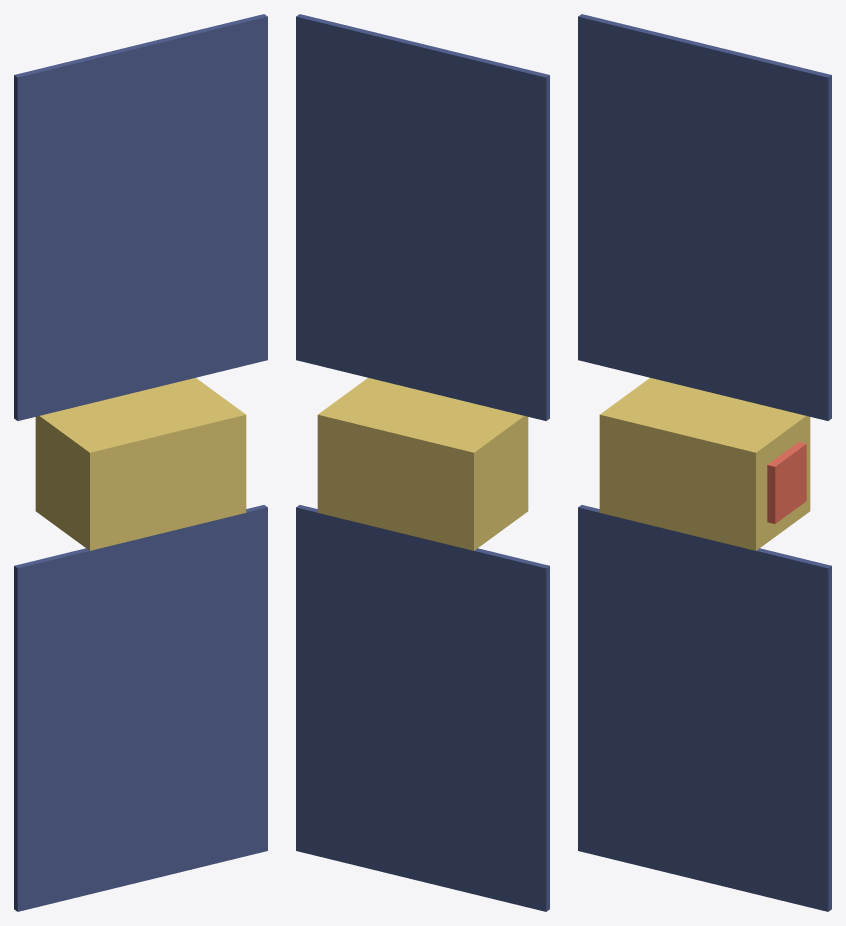
The model's file is aurora_sat_phase4.gltf.
3 renders of one model, left to right at view 1: azimuth 30°, elevation 25°; view 2: azimuth 150°, elevation 25°; view 3: azimuth 330°, elevation 25°, orthographic.
Visible parts, largest first — view 1: AURORA_SAT; view 2: AURORA_SAT; view 3: AURORA_SAT.
Part boxes in pixels (box(x1,y1,x2,y2)): AURORA_SAT: box(14, 14, 267, 911); AURORA_SAT: box(296, 14, 549, 911); AURORA_SAT: box(578, 14, 831, 911).
Size of the model in its own units: 3.2 by 10.2 by 1.2.
